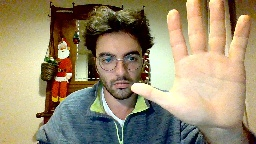Mano_aperta: (126, 0, 256, 131)
